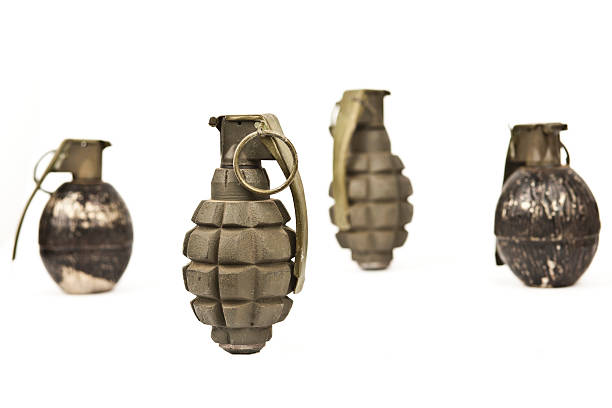e1: (177, 113, 312, 355), (488, 122, 601, 289), (14, 139, 133, 295), (329, 89, 413, 270)
